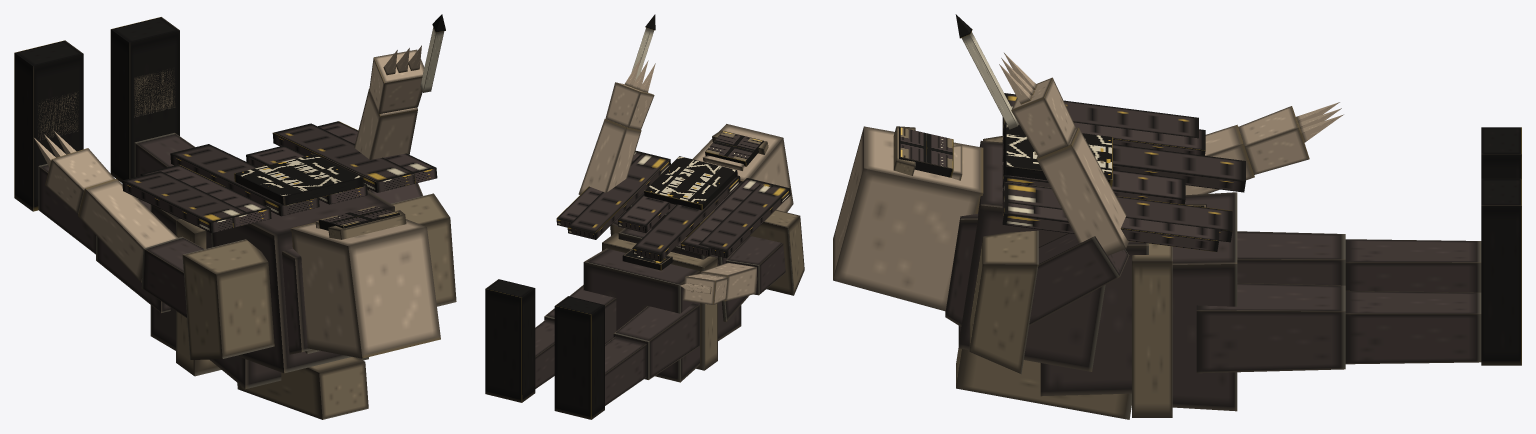
The model's file is scriptorax_neutral.obj.
3 renders of one model, left to right at view 1: azimuth 30°, elevation 25°; view 2: azimuth 150°, elevation 25°; view 3: azimuth 270°, elevation 25°, orthographic. The views are drawn at different scales.
Parts seen in each view (by area): view 1: scriptorax_neutral; view 2: scriptorax_neutral; view 3: scriptorax_neutral.
Boxes of the visible parts, x1,y1,x2,y2 form: scriptorax_neutral: [14, 14, 456, 419]; scriptorax_neutral: [485, 14, 804, 419]; scriptorax_neutral: [833, 14, 1521, 419].
Size of the model in its own units: 0.4962 by 0.7082 by 1.
1 material, 1 textured.
